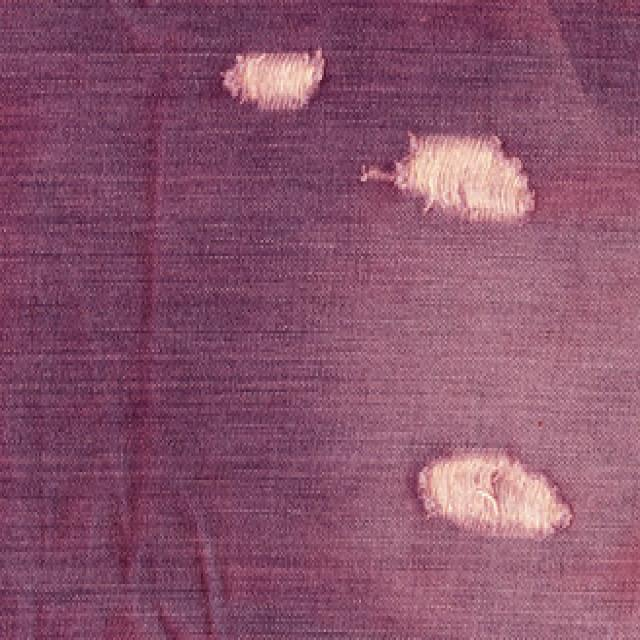Hole: (418, 448, 574, 540), (395, 132, 536, 222), (222, 48, 325, 109)
